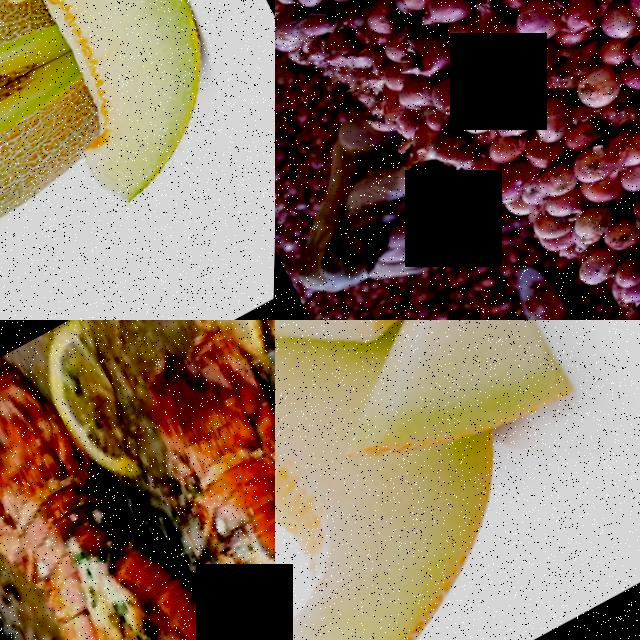lobster tails: (0, 339, 275, 640), (101, 327, 275, 640), (0, 507, 209, 640), (196, 320, 275, 640)
melon: (275, 419, 569, 640), (0, 0, 264, 226), (0, 0, 85, 320)
onion: (523, 87, 588, 149), (505, 0, 572, 52), (456, 0, 519, 55), (570, 60, 626, 115), (416, 0, 483, 33), (626, 178, 640, 244)
